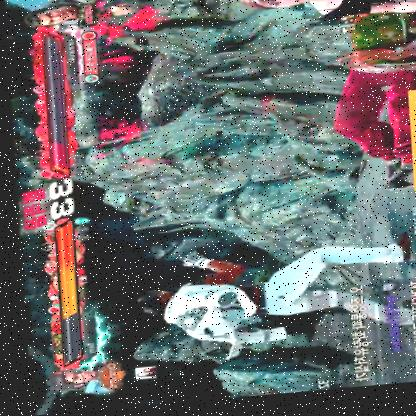streamer: (240, 0, 416, 33)
